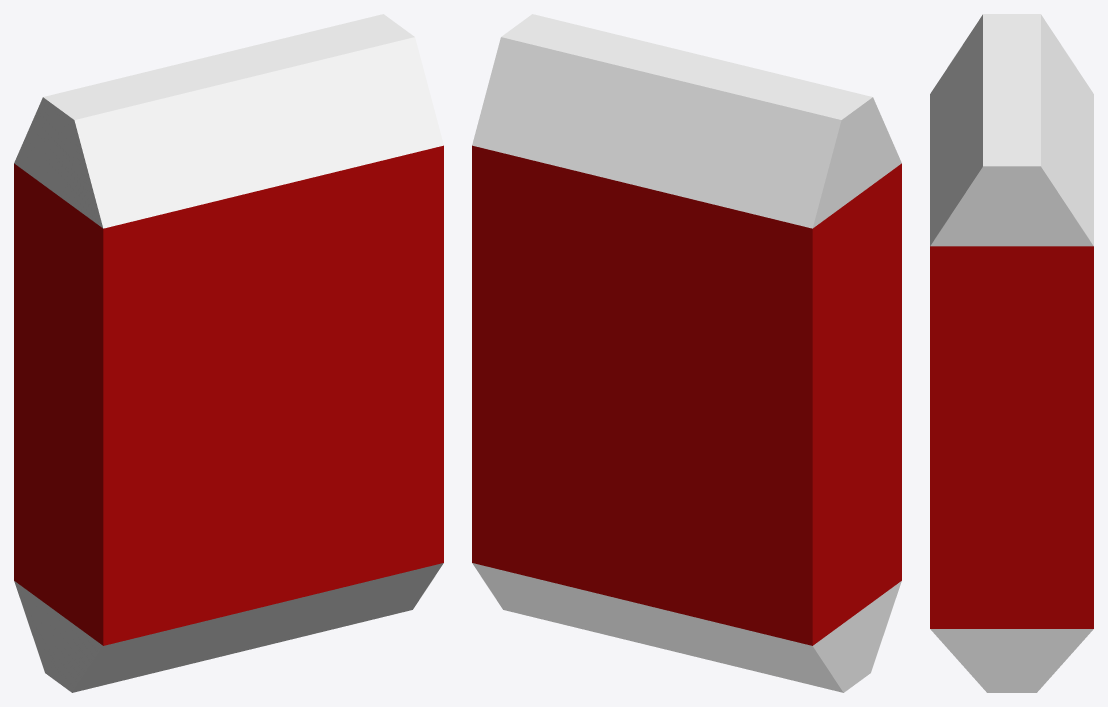
The model's file is Sugar.fbx.
3 renders of one model, left to right at view 1: azimuth 30°, elevation 25°; view 2: azimuth 150°, elevation 25°; view 3: azimuth 270°, elevation 25°, orthographic. The views are drawn at different scales.
Visible parts, largest first — view 1: Sugar; view 2: Sugar; view 3: Sugar.
Boxes of the visible parts, x1,y1,x2,y2 form: Sugar: (14, 14, 443, 692); Sugar: (472, 14, 901, 692); Sugar: (930, 14, 1093, 692).
Bounding box in the file's own units: 39.77 × 18.07 × 64.1.
